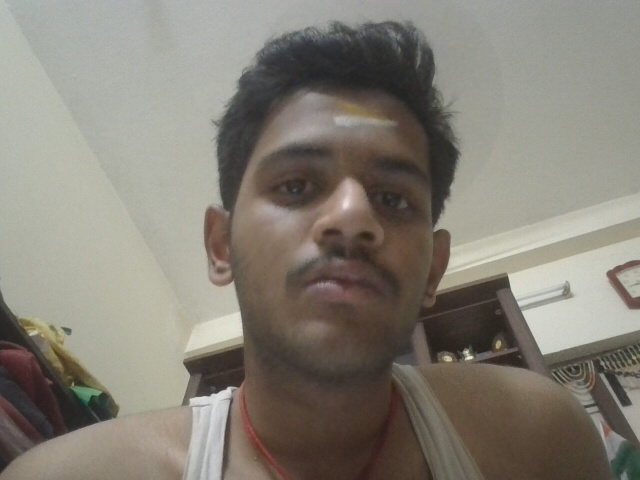real: (214, 74, 483, 343)
